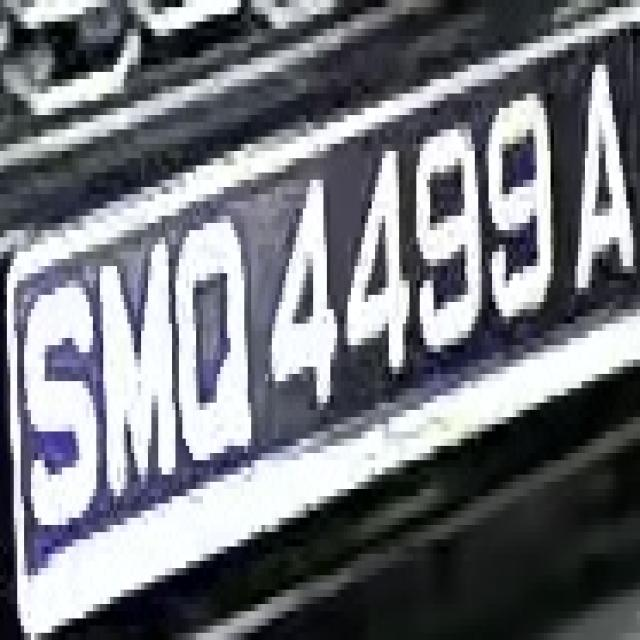4: (331, 122, 424, 410), (268, 180, 344, 438)
9: (475, 86, 550, 331), (413, 130, 485, 352)
A: (568, 36, 630, 331)
M: (96, 230, 182, 511)
Q: (172, 201, 268, 482)
S: (20, 273, 100, 547)
